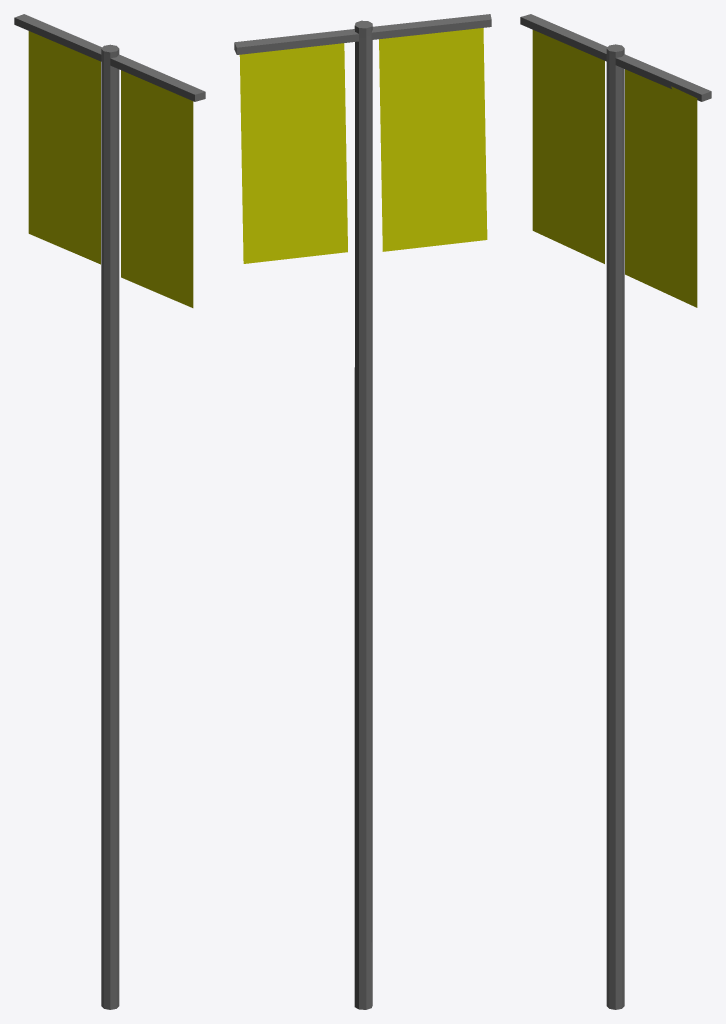
File: banner post.fbx
3 views of the same model, side by side, from view 1: azimuth 90°, elevation 25°; view 2: azimuth 150°, elevation 25°; view 3: azimuth 270°, elevation 25° (orthographic). The views are drawn at different scales.
Visible parts, largest first — view 1: pCylinder9, pPlane1, pPlane2; view 2: pPlane1, pPlane2, pCylinder9; view 3: pCylinder9, pPlane2, pPlane1.
Part boxes in pixels (box(x1,y1,x2,y2)): pCylinder9: box(14, 14, 205, 1009); pPlane1: box(121, 70, 193, 307); pPlane2: box(28, 31, 100, 264); pPlane1: box(379, 28, 487, 251); pPlane2: box(239, 43, 347, 263); pCylinder9: box(234, 14, 491, 1009); pCylinder9: box(520, 14, 711, 1009); pPlane2: box(625, 69, 697, 307); pPlane1: box(532, 30, 604, 263).
Size of the model in its own units: 2.49 by 13.75 by 2.49.
